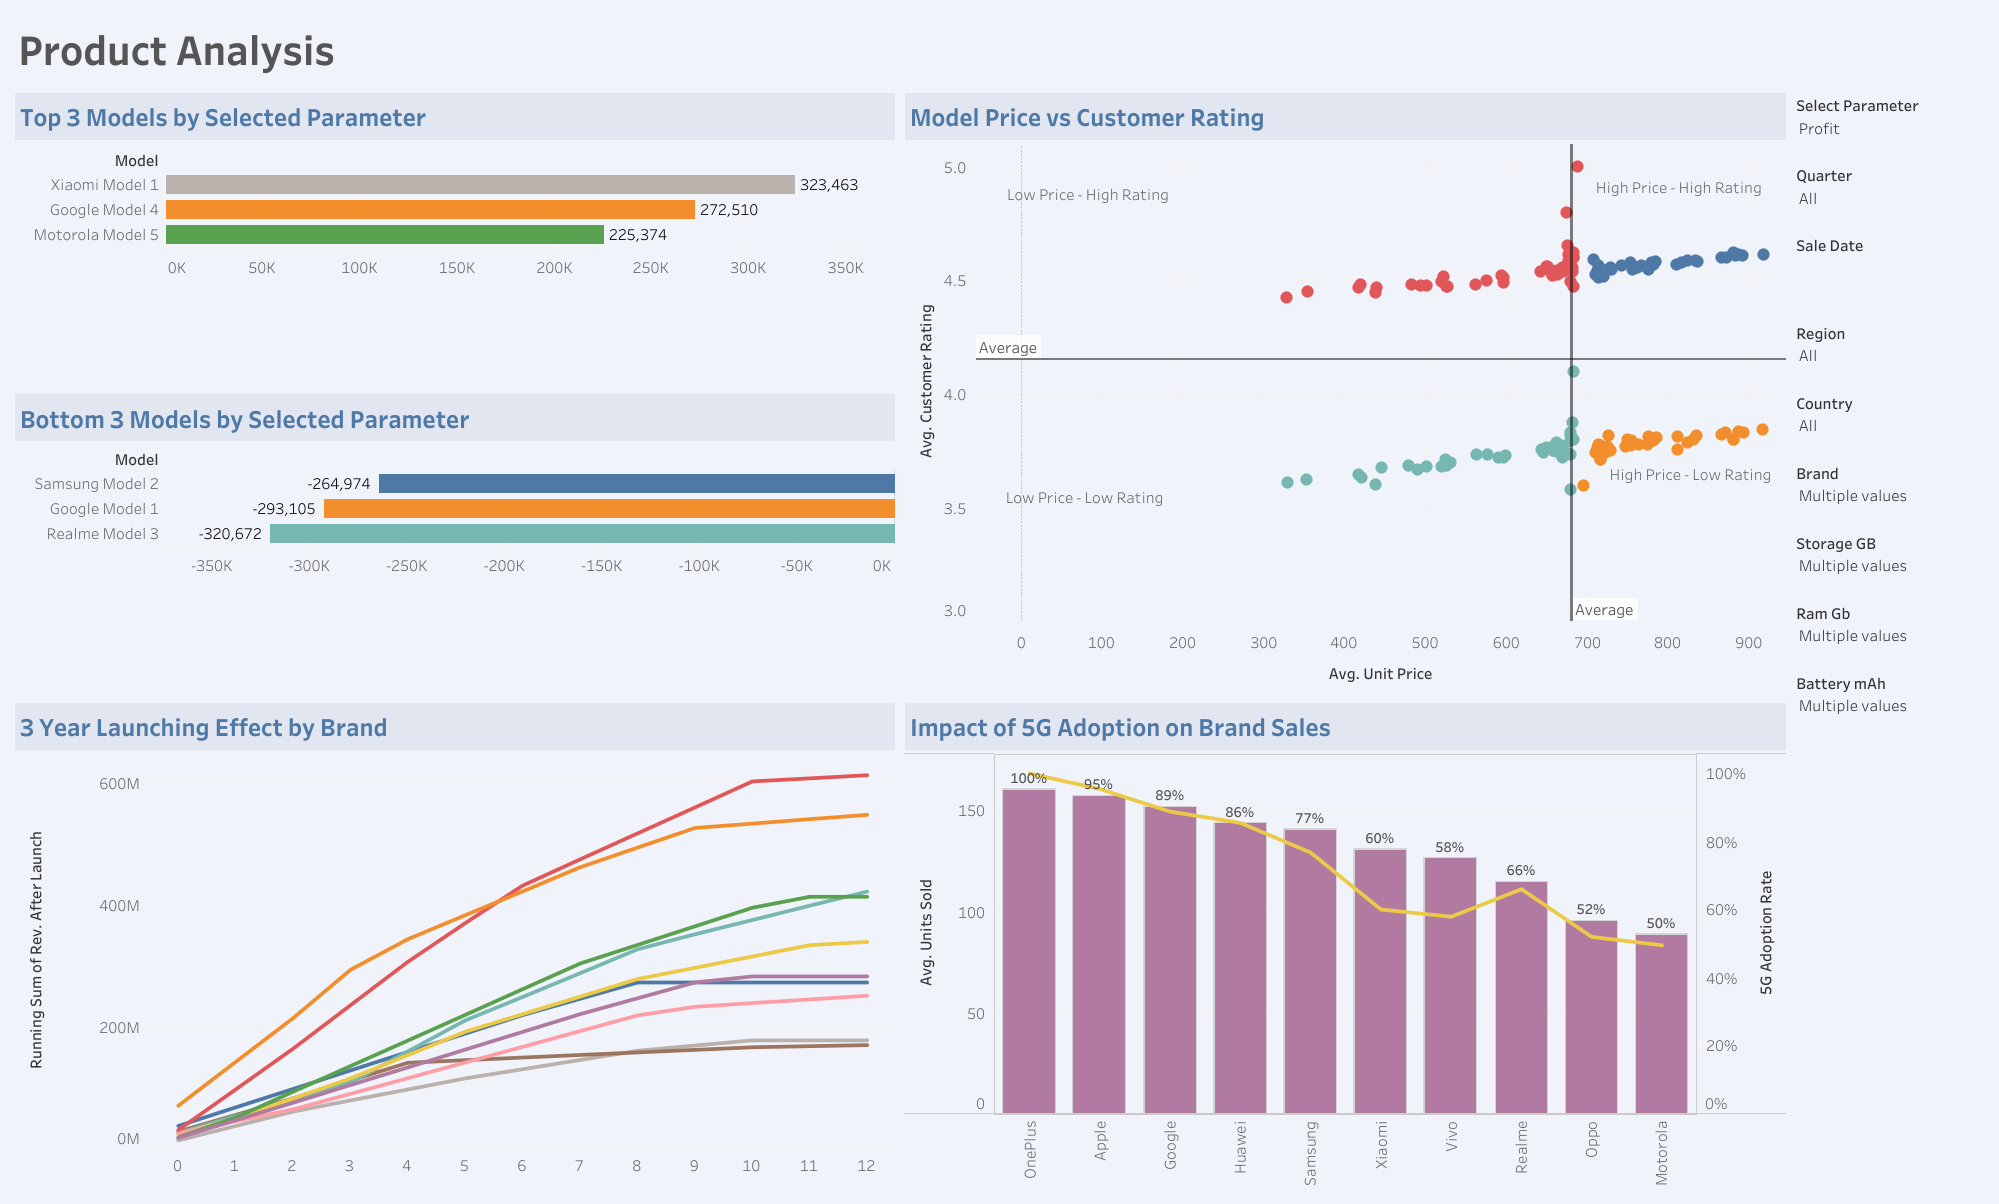

What the dashboard file says about the page in this screenshot:
{"tool":"tableau","page":{"name":"3. Product Analysis","canvas":[1000,1000],"units":"permille","ordinal":4},"visuals":[{"type":"title","box":[4.8,10,990.3,77.4]},{"type":"worksheet","title":"Top 3 Models by Selected Parameter","mark":"Automatic","rows":["Model"],"cols":["Calculation_1011902550517583872"],"box":[4.8,87.4,446.9,245.9]},{"type":"worksheet","title":"Price vs Customer rating","mark":"Automatic","rows":["CustomerRating"],"cols":["UnitPrice"],"box":[451.8,87.4,447.4,496.9]},{"type":"parameter","param":"[Parameters].[Parameter 8]","box":[899.2,87.4,96,69.9]},{"type":"text","box":[796,136.3,113.7,37]},{"type":"text","box":[502.1,140.9,114.8,38.1]},{"type":"filter","title":"Top 3 Models by Selected Parameter","param":"[federated.133nf490kqtoen14o6drk1ew0xuc].[none:Quarter:nk]","box":[899.2,157.3,96,76.2]},{"type":"filter","title":"Top 3 Models by Selected Parameter","param":"[federated.133nf490kqtoen14o6drk1ew0xuc].[none:SaleDate:qk]","box":[899.2,233.5,96,91.1]},{"type":"filter","title":"Top 3 Models by Selected Parameter","param":"[federated.133nf490kqtoen14o6drk1ew0xuc].[none:Region:nk]","box":[899.2,324.6,96,76.2]},{"type":"worksheet","title":"Bottom 3 Models by Selected Parameter","mark":"Automatic","rows":["Model"],"cols":["Calculation_1011902550517583872"],"box":[4.8,333.3,446.9,250.9]},{"type":"text","box":[802.9,374.1,105.2,38.1]},{"type":"text","box":[501.1,392.6,108.4,38.1]},{"type":"filter","title":"Top 3 Models by Selected Parameter","param":"[federated.133nf490kqtoen14o6drk1ew0xuc].[none:Country:nk]","box":[899.2,400.8,96,76.2]},{"type":"filter","title":"Top 3 Models by Selected Parameter","param":"[federated.133nf490kqtoen14o6drk1ew0xuc].[none:Brand:nk]","box":[899.2,476.9,96,76.2]},{"type":"filter","title":"Top 3 Models by Selected Parameter","param":"[federated.133nf490kqtoen14o6drk1ew0xuc].[none:Storage_GB:ok]","box":[899.2,553.1,96,76.2]},{"type":"worksheet","title":"3. Product_Year Launching Effect by Brand","mark":"Line","rows":["Calculation_2809120271354032136"],"cols":["Calculation_2809120271355715593"],"box":[4.8,584.2,446.9,405.8]},{"type":"worksheet","title":"5G Adoption Rate","mark":"Automatic","rows":["UnitsSold","Calculation_1011902550519607297"],"cols":["Brand"],"box":[451.8,584.3,447.4,405.7]},{"type":"filter","title":"Top 3 Models by Selected Parameter","param":"[federated.133nf490kqtoen14o6drk1ew0xuc].[none:RAM_GB:ok]","box":[899.2,629.3,96,76.2]},{"type":"filter","title":"Top 3 Models by Selected Parameter","param":"[federated.133nf490kqtoen14o6drk1ew0xuc].[none:Battery_mAh:ok]","box":[899.2,705.4,96,76.2]}]}

Visuals, with their boxes on the dashboard's canvas, which has no fixed pixel size, in thousandths of its width and height (x1, y1, x2, y2). These are canvas units, not pixel positions in the 1999x1204 screenshot, which may show the page scaled, cropped or inside an application window:
title: {"x1": 5, "y1": 10, "x2": 995, "y2": 87}
"Top 3 Models by Selected Parameter" worksheet: {"x1": 5, "y1": 87, "x2": 452, "y2": 333}
"Price vs Customer rating" worksheet: {"x1": 452, "y1": 87, "x2": 899, "y2": 584}
parameter: {"x1": 899, "y1": 87, "x2": 995, "y2": 157}
text: {"x1": 796, "y1": 136, "x2": 910, "y2": 173}
text: {"x1": 502, "y1": 141, "x2": 617, "y2": 179}
"Top 3 Models by Selected Parameter" filter: {"x1": 899, "y1": 157, "x2": 995, "y2": 234}
"Top 3 Models by Selected Parameter" filter: {"x1": 899, "y1": 234, "x2": 995, "y2": 325}
"Top 3 Models by Selected Parameter" filter: {"x1": 899, "y1": 325, "x2": 995, "y2": 401}
"Bottom 3 Models by Selected Parameter" worksheet: {"x1": 5, "y1": 333, "x2": 452, "y2": 584}
text: {"x1": 803, "y1": 374, "x2": 908, "y2": 412}
text: {"x1": 501, "y1": 393, "x2": 610, "y2": 431}
"Top 3 Models by Selected Parameter" filter: {"x1": 899, "y1": 401, "x2": 995, "y2": 477}
"Top 3 Models by Selected Parameter" filter: {"x1": 899, "y1": 477, "x2": 995, "y2": 553}
"Top 3 Models by Selected Parameter" filter: {"x1": 899, "y1": 553, "x2": 995, "y2": 629}
"3. Product_Year Launching Effect by Brand" worksheet (Line marks): {"x1": 5, "y1": 584, "x2": 452, "y2": 990}
"5G Adoption Rate" worksheet: {"x1": 452, "y1": 584, "x2": 899, "y2": 990}
"Top 3 Models by Selected Parameter" filter: {"x1": 899, "y1": 629, "x2": 995, "y2": 706}
"Top 3 Models by Selected Parameter" filter: {"x1": 899, "y1": 705, "x2": 995, "y2": 782}
